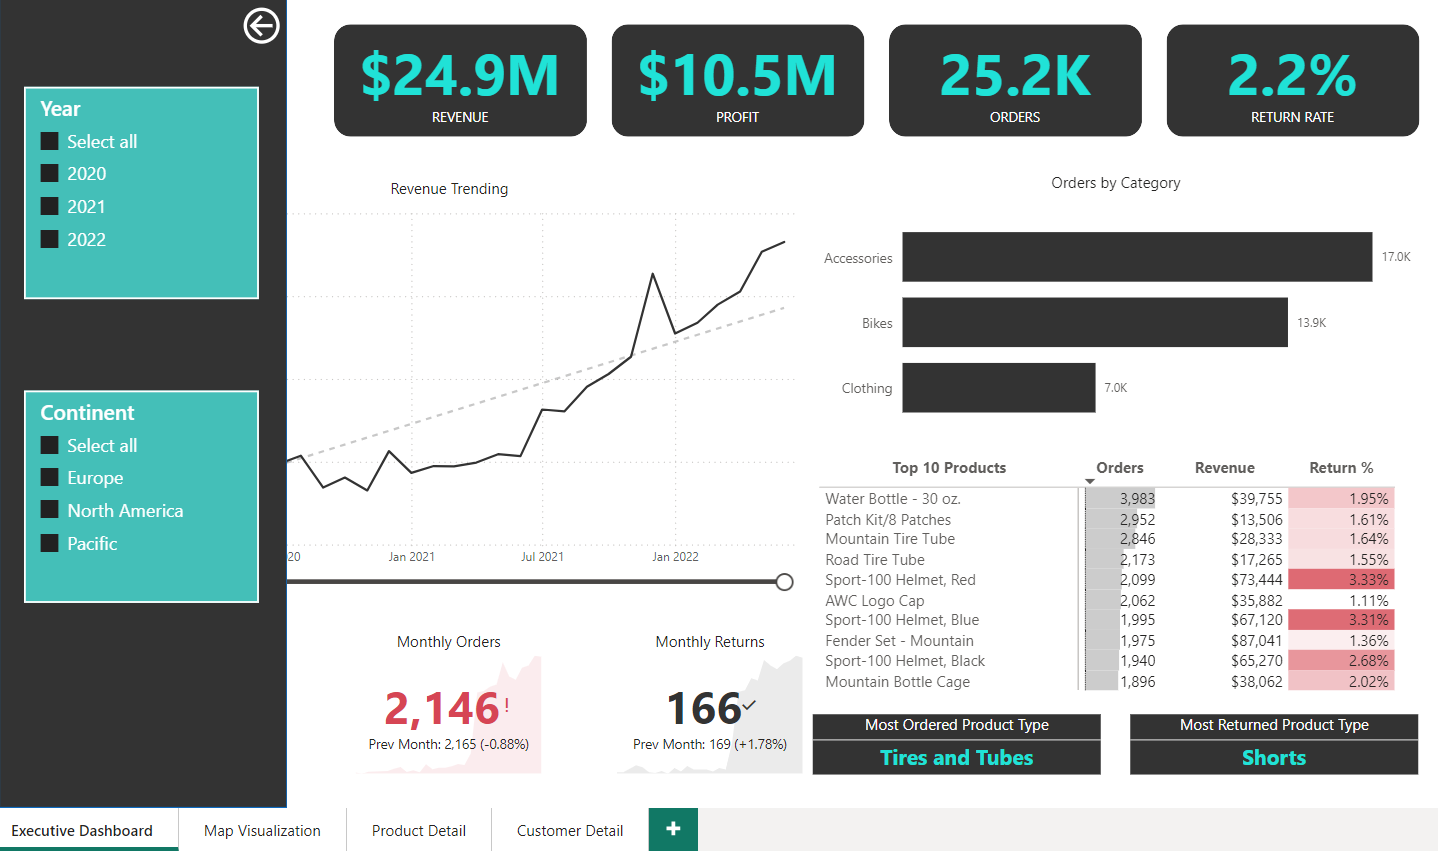

This screenshot's page, from the dashboard's own definition file:
{"tool":"powerbi","page":{"name":"Exec Dashboard","canvas":[1280,720],"ordinal":0},"visuals":[{"type":"image","title":"AW Logo","box":[56.2,12.5,223.8,122.5],"z":0},{"type":"card","fields":{"Values":["Measure Table.Total Revenue"]},"box":[305,12.5,208.8,122.5],"z":0,"group":"g2"},{"type":"group","id":"g1","title":"KPI Backgrounds","box":[297.5,23.7,965,100],"z":0,"group":"g3"},{"type":"shape","box":[297.5,23.7,225,100],"z":0,"group":"g1"},{"type":"actionButton","box":[0,463.8,45,40],"z":0,"group":"g4"},{"type":"shape","title":"Left Nav Background","box":[0,0,45,720],"z":1000},{"type":"group","id":"g2","title":"KPI Values","box":[305,12.5,948.8,122.5],"z":1000,"group":"g3"},{"type":"card","fields":{"Values":["Measure Table.Total Profit"]},"box":[551.7,12.5,208.8,122.5],"z":1000,"group":"g2"},{"type":"shape","box":[544.2,23.7,225,100],"z":1000,"group":"g1"},{"type":"actionButton","box":[0,526.3,45,40],"z":1000,"group":"g4"},{"type":"group","id":"g3","title":"KPIs","box":[297.5,12.5,965,122.5],"z":2000},{"type":"card","fields":{"Values":["Measure Table.Total Orders"]},"box":[798.3,12.5,208.8,122.5],"z":2000,"group":"g2"},{"type":"shape","box":[790.8,23.7,225,100],"z":2000,"group":"g1"},{"type":"actionButton","box":[0,588.8,45,40],"z":2000,"group":"g4"},{"type":"card","fields":{"Values":["Measure Table.Return Rate"]},"box":[1045,12.5,208.8,122.5],"z":3000,"group":"g2"},{"type":"shape","box":[1037.5,23.7,225,100],"z":3000,"group":"g1"},{"type":"lineChart","title":"Revenue Trending","fields":{"Y":["Measure Table.Total Revenue"],"Category":["Calendar Lookup.Year","Calendar Lookup.Start of Quarter","Calendar Lookup.Start of Month"]},"box":[76.2,160,647.5,370],"z":3000},{"type":"actionButton","box":[0,651.3,45,40],"z":3000,"group":"g4"},{"type":"kpi","title":"Monthly Revenue","fields":{"Indicator":["Measure Table.Total Revenue"],"TrendLine":["Calendar Lookup.Start of Month"],"Goal":["Measure Table.Previous Month Revenue"]},"box":[81.4,561.8,175,132.5],"z":4000},{"type":"kpi","title":"Monthly Orders","fields":{"TrendLine":["Calendar Lookup.Start of Month"],"Indicator":["Measure Table.Total Orders"],"Goal":["Measure Table.Previous Month Orders"]},"box":[312.7,561.8,175,132.5],"z":5000},{"type":"kpi","title":"Monthly Returns","fields":{"TrendLine":["Calendar Lookup.Start of Month"],"Indicator":["Measure Table.Total Returns"],"Goal":["Measure Table.Previous Month Returns"]},"box":[543.9,561.8,175,132.5],"z":6000},{"type":"clusteredBarChart","title":"Orders by Category","fields":{"Category":["Product Categories Lookup.CategoryName"],"Y":["Measure Table.Total Orders"]},"box":[723.9,154.4,539.3,244.9],"z":7000},{"type":"pivotTable","title":"Top 10 Products","fields":{"Rows":["Product Lookup.ProductName"],"Values":["Measure Table.Total Orders","Measure Table.Total Revenue","Measure Table.Return Rate"]},"box":[724.3,402.9,538.6,217.1],"z":8000},{"type":"card","title":"Most Ordered Product Type","fields":{"Values":["Min(Product Subcategories Lookup.SubcategoryName)"]},"box":[723.2,636.2,256.2,53.8],"z":9000},{"type":"card","title":"Most Returned Product Type","fields":{"Values":["Min(Product Subcategories Lookup.SubcategoryName)"]},"box":[1005.7,636.2,256.2,53.8],"z":10000},{"type":"actionButton","box":[0,0,45,42.5],"z":11000},{"type":"group","id":"g4","title":"Navigation Buttons","box":[0,463.8,45,227.5],"z":12000},{"type":"actionButton","box":[0,120,45,42.5],"z":13000}]}

Visuals, with their boxes on the page's 1280x720 design canvas (x1, y1, x2, y2). These are canvas units, not pixel positions in the 1438x851 screenshot, which may show the page scaled, cropped or inside an application window:
"AW Logo" image: bbox=(56, 12, 280, 135)
card - Measure Table.Total Revenue: bbox=(305, 12, 514, 135)
"KPI Backgrounds" group: bbox=(298, 24, 1262, 124)
shape: bbox=(298, 24, 522, 124)
actionButton: bbox=(0, 464, 45, 504)
"Left Nav Background" shape: bbox=(0, 0, 45, 720)
"KPI Values" group: bbox=(305, 12, 1254, 135)
card - Measure Table.Total Profit: bbox=(552, 12, 760, 135)
shape: bbox=(544, 24, 769, 124)
actionButton: bbox=(0, 526, 45, 566)
"KPIs" group: bbox=(298, 12, 1262, 135)
card - Measure Table.Total Orders: bbox=(798, 12, 1007, 135)
shape: bbox=(791, 24, 1016, 124)
actionButton: bbox=(0, 589, 45, 629)
card - Measure Table.Return Rate: bbox=(1045, 12, 1254, 135)
shape: bbox=(1038, 24, 1262, 124)
"Revenue Trending" lineChart: bbox=(76, 160, 724, 530)
actionButton: bbox=(0, 651, 45, 691)
"Monthly Revenue" kpi: bbox=(81, 562, 256, 694)
"Monthly Orders" kpi: bbox=(313, 562, 488, 694)
"Monthly Returns" kpi: bbox=(544, 562, 719, 694)
"Orders by Category" clusteredBarChart: bbox=(724, 154, 1263, 399)
"Top 10 Products" pivotTable: bbox=(724, 403, 1263, 620)
"Most Ordered Product Type" card: bbox=(723, 636, 979, 690)
"Most Returned Product Type" card: bbox=(1006, 636, 1262, 690)
actionButton: bbox=(0, 0, 45, 42)
"Navigation Buttons" group: bbox=(0, 464, 45, 691)
actionButton: bbox=(0, 120, 45, 162)
